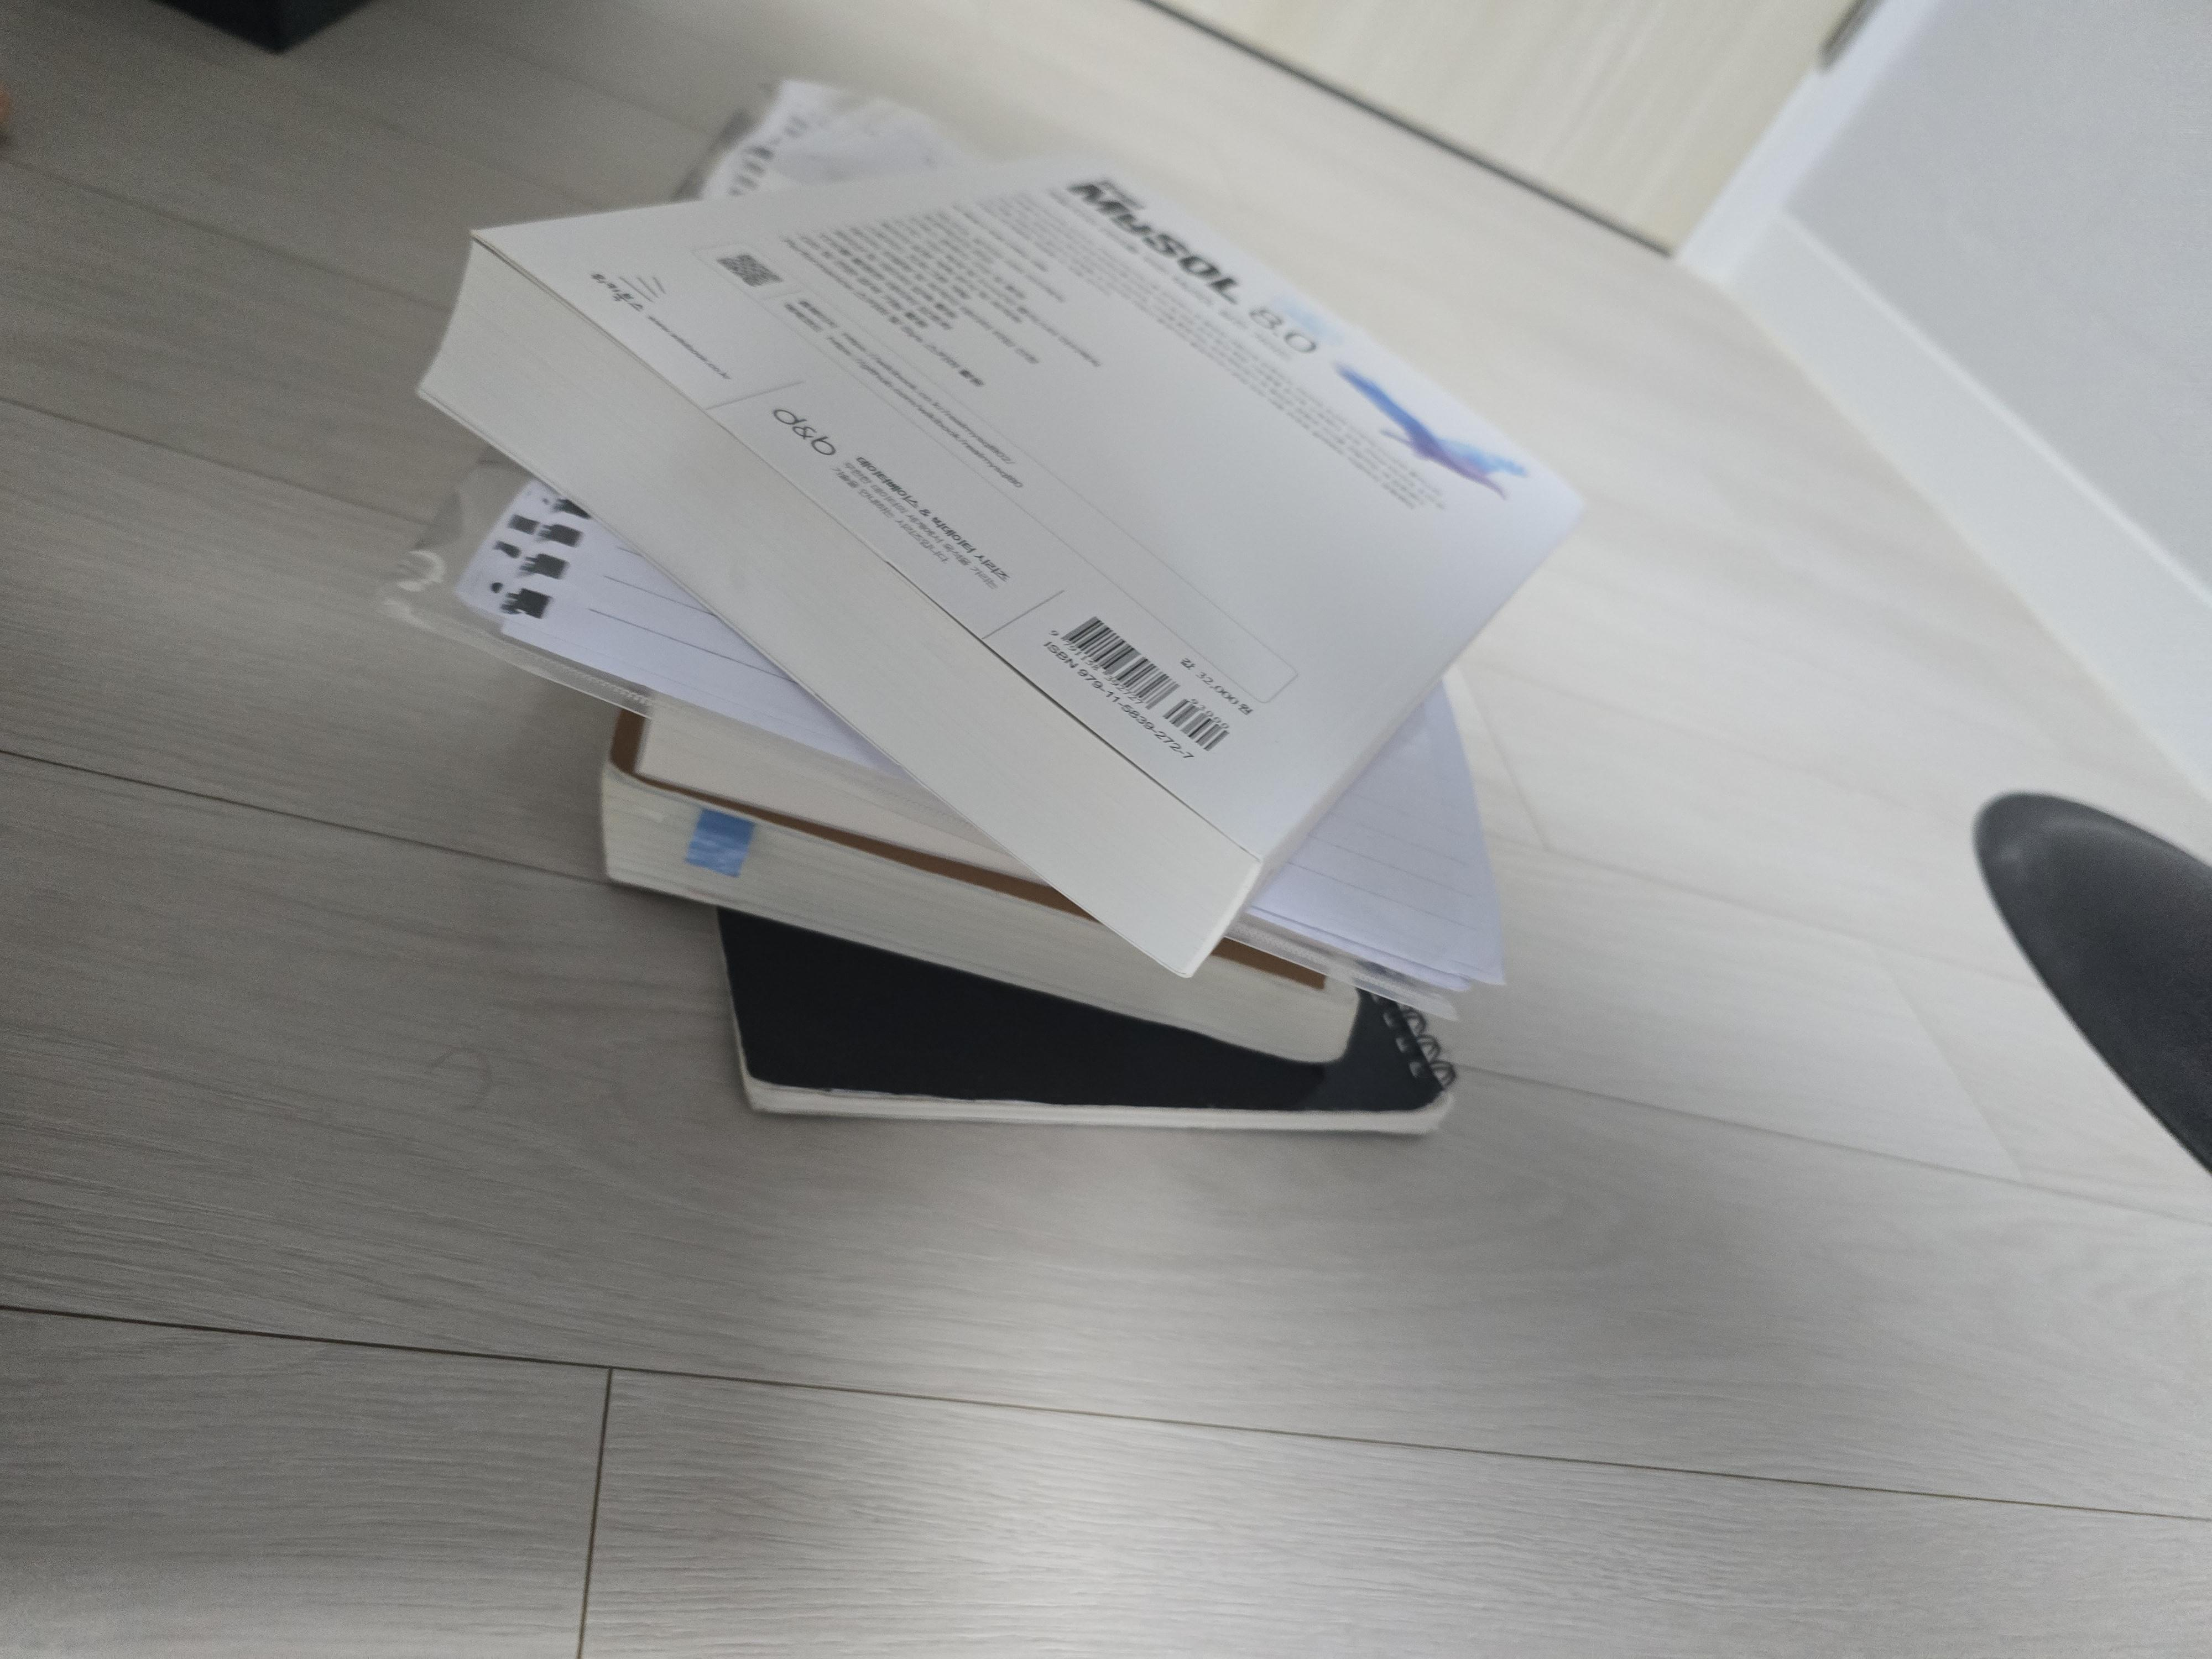book: (413, 80, 1583, 988)
